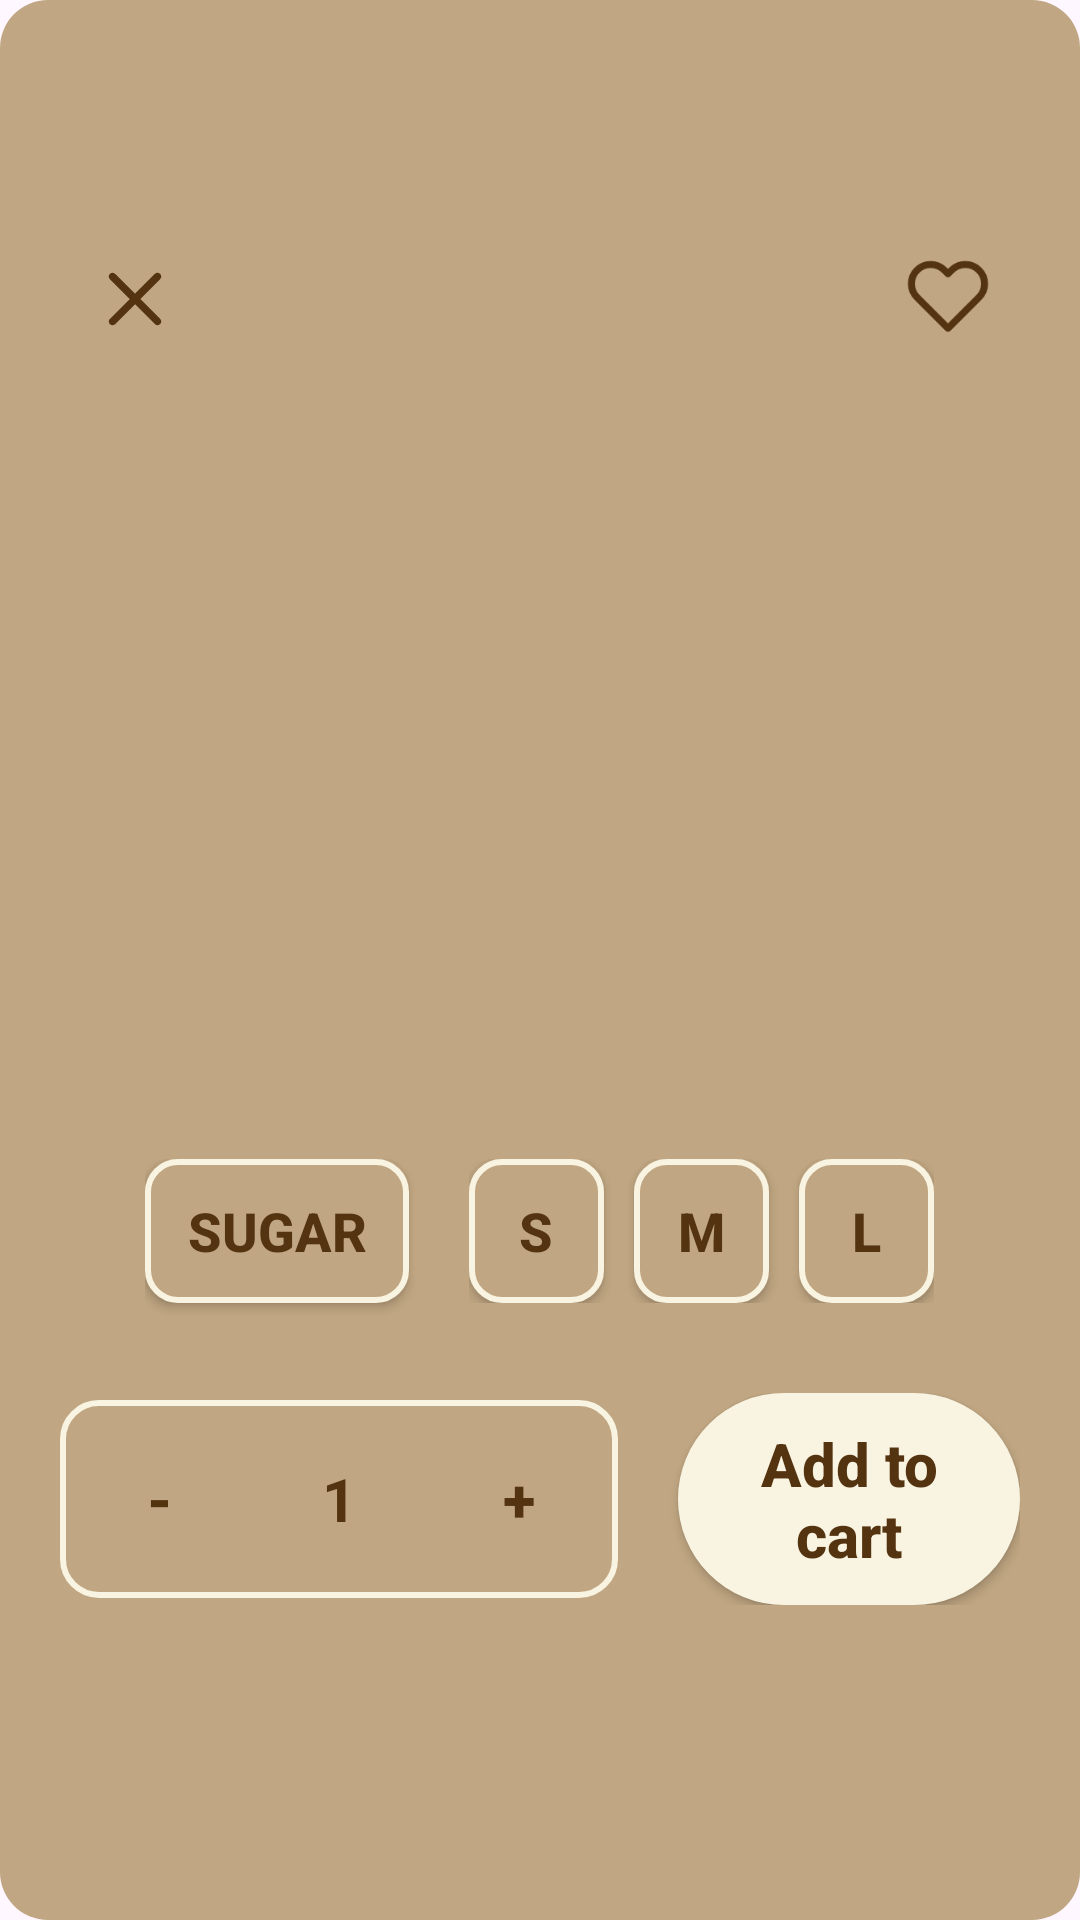

Where icons sit on this 1080×1920 app screen, as (x1, y1, x2, y2):
close: (108, 272, 162, 326)
favorite border: (908, 261, 988, 332)
